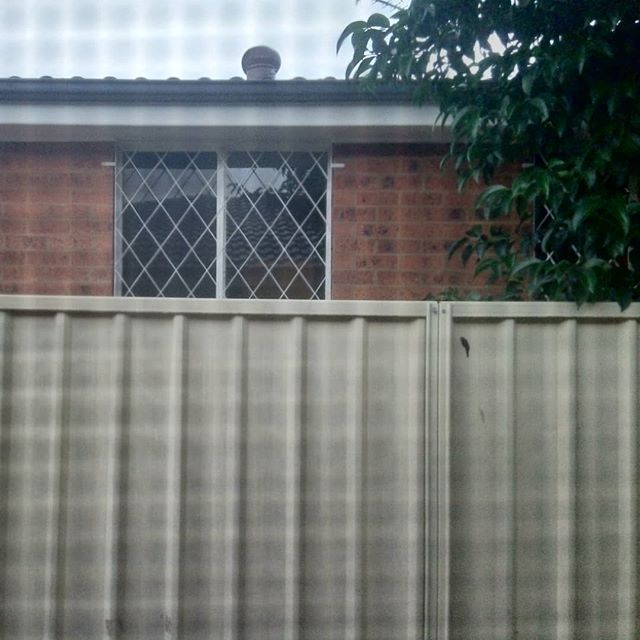building: (1, 70, 520, 295)
vegetation: (407, 1, 640, 282)
